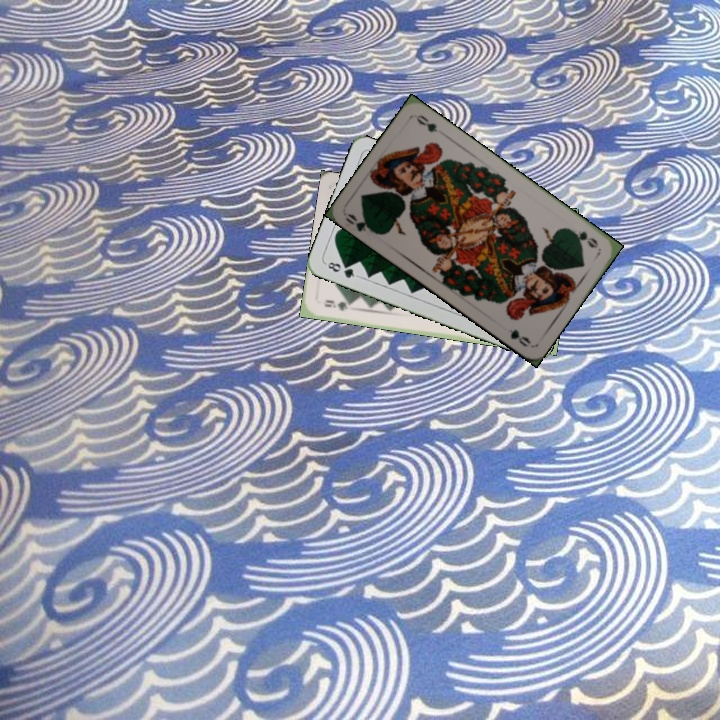G8: (322, 258, 361, 281)
G9: (320, 296, 356, 313)
GO: (344, 210, 379, 237), (565, 225, 601, 251)
